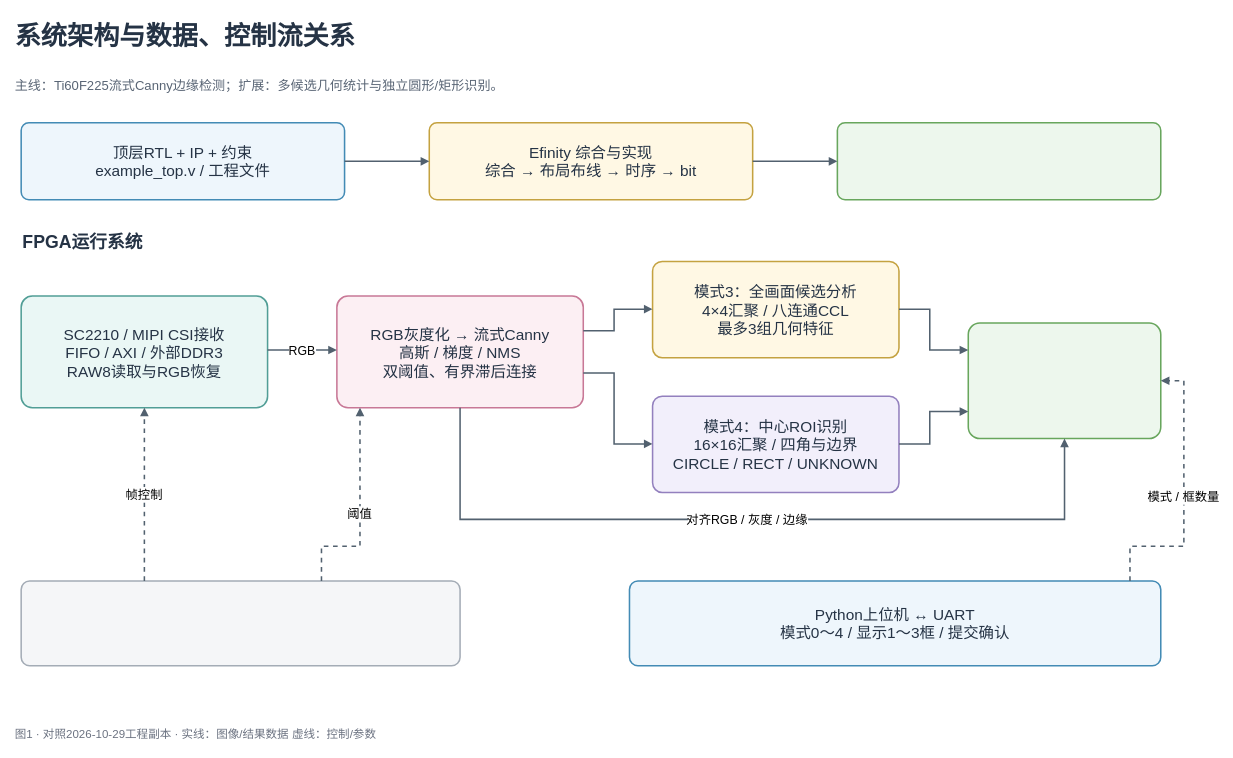
This 1233x758 diagram has some shape labels left out. Here are the shapes that lost their labels. From the top down, the centre of each, then its label:
At (x=998, y=161): "下载bit，配置FPGA逻辑 各硬件模块并行工作".
At (x=1064, y=380): "显示合成与结果叠加 模式0～4 RGB → TMDS → HDMI".
At (x=240, y=623): "板载按键 阈值调节 / 冻结恢复 / 历史回放".
